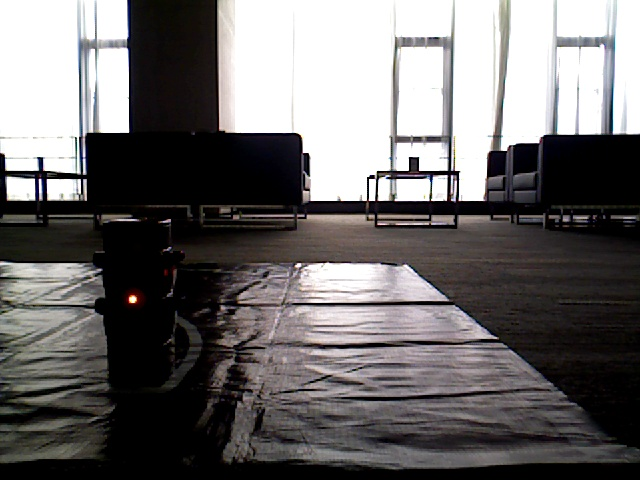yellow: (108, 221, 164, 348)
